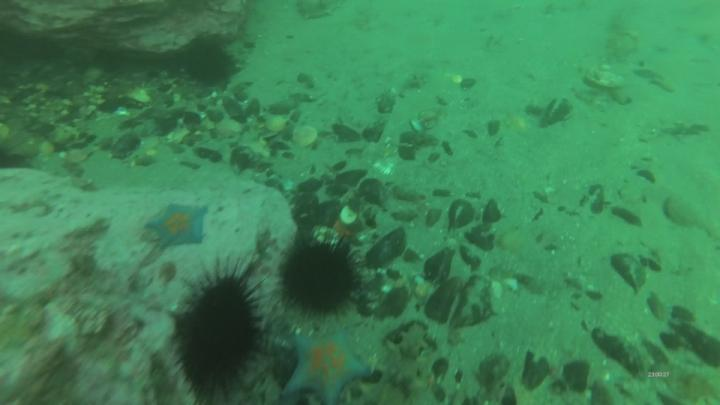echinus: (179, 278, 258, 391), (285, 245, 355, 310), (184, 44, 232, 84)
scallop: (292, 125, 320, 150)
starfish: (285, 328, 367, 405), (144, 203, 209, 248)
